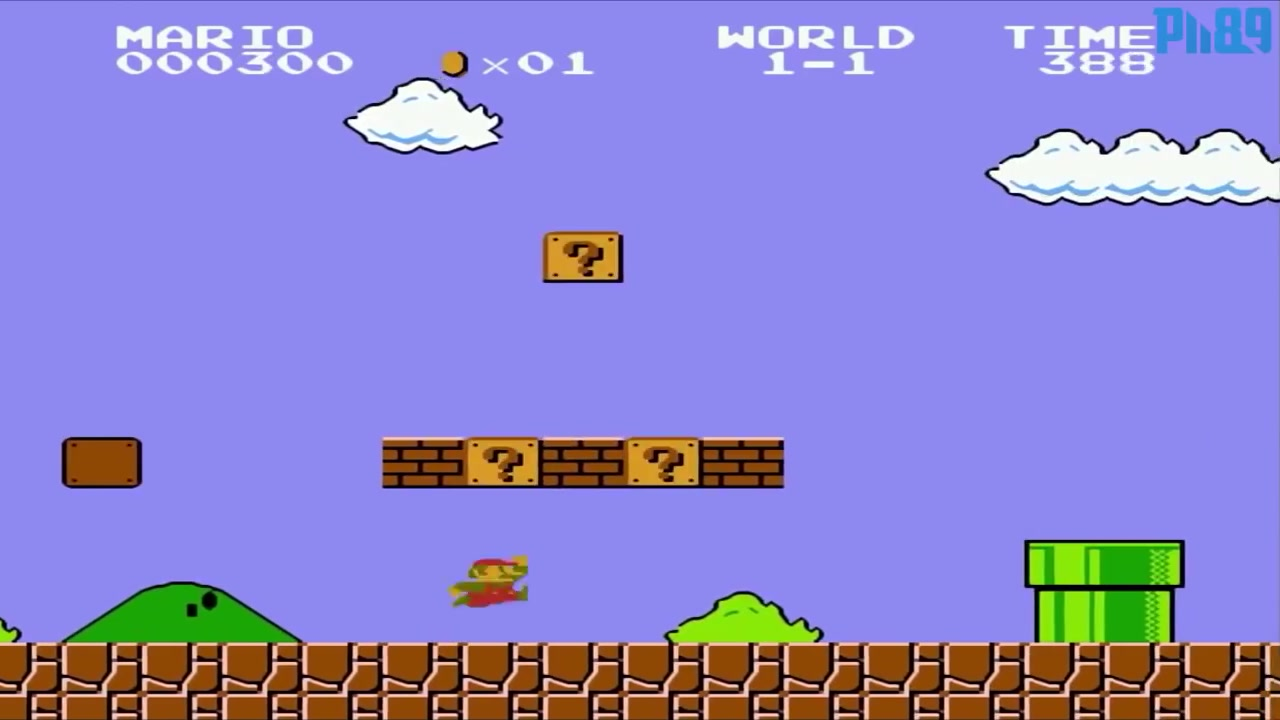mario: (444, 546, 538, 613)
